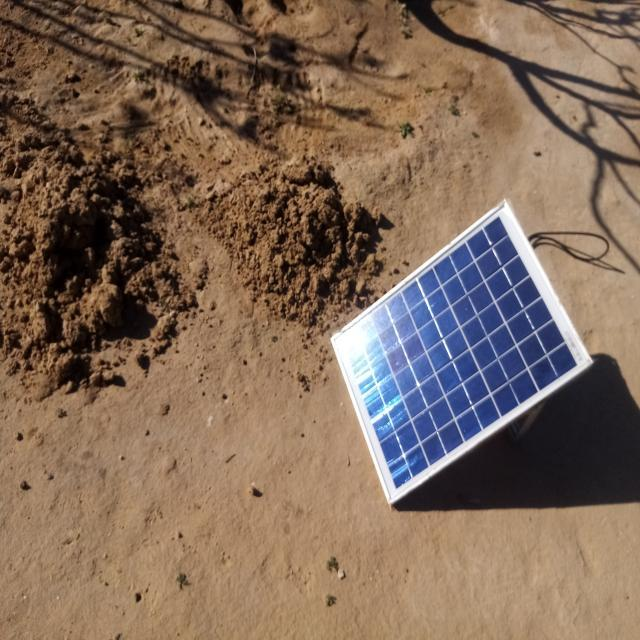no faulty: (332, 201, 594, 504)
